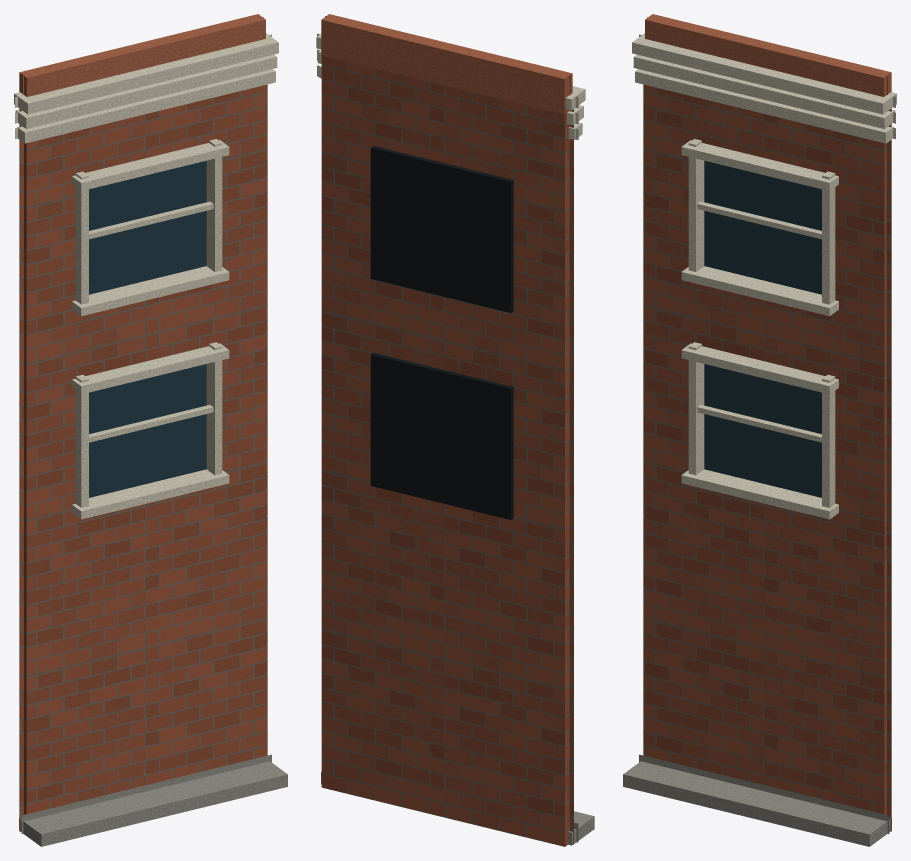
File: VICT23_lod2.glb
The picture shows the model from 3 angles, left to right: view 1: azimuth 30°, elevation 25°; view 2: azimuth 150°, elevation 25°; view 3: azimuth 330°, elevation 25°; orthographic projection.
Visible parts, largest first — view 1: VICT23_FRONT_LOD2; view 2: VICT23_FRONT_LOD2; view 3: VICT23_FRONT_LOD2.
Boxes of the visible parts, x1,y1,x2,y2 form: VICT23_FRONT_LOD2: [14, 14, 287, 846]; VICT23_FRONT_LOD2: [316, 14, 594, 846]; VICT23_FRONT_LOD2: [623, 14, 896, 846].
Bounding box in the file's own units: 3.44 × 9.66 × 0.65.
Materials: 7 (5 with a texture image).
